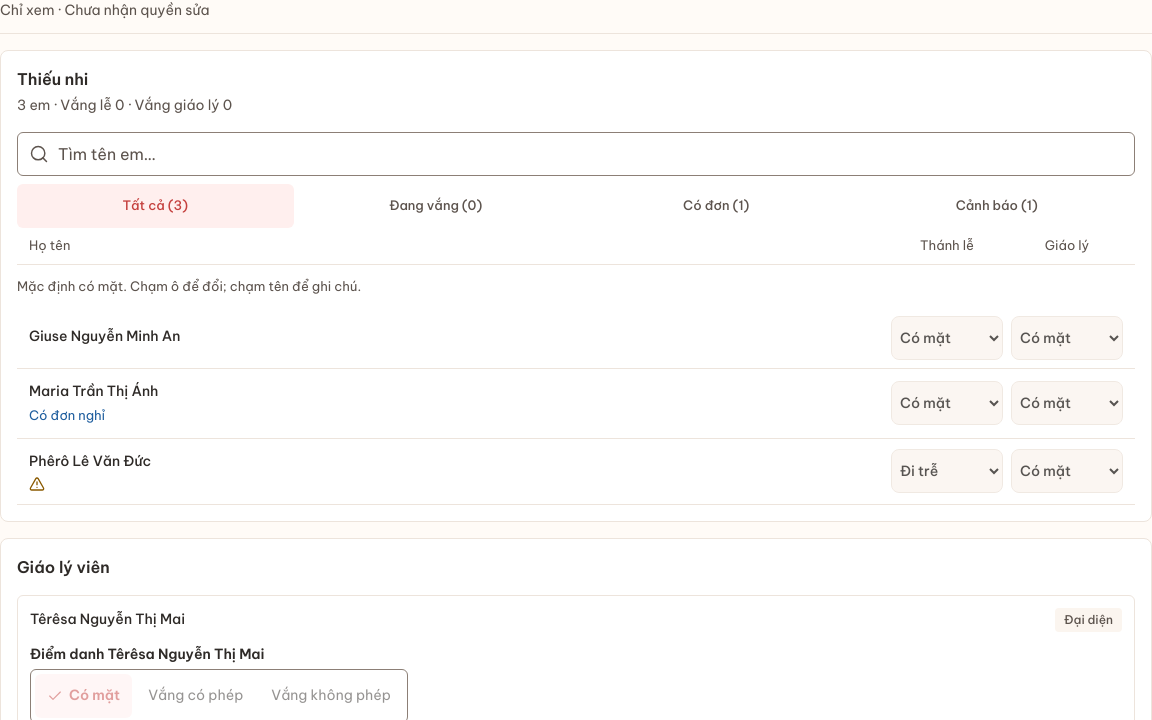
Scenario: Mobile roster: direct controls and detail sheet › read-only disables both selects and notes
Expected: the dropdown named "Thánh lễ của Giuse Nguyễn Minh An" is disabled, [891,316,1003,360]
Expected: the dropdown named "Giáo lý của Giuse Nguyễn Minh An" is disabled, [1011,316,1123,360]
Click the button "Giuse Nguyễn Minh An" at (105, 336), box [29,316,883,360]
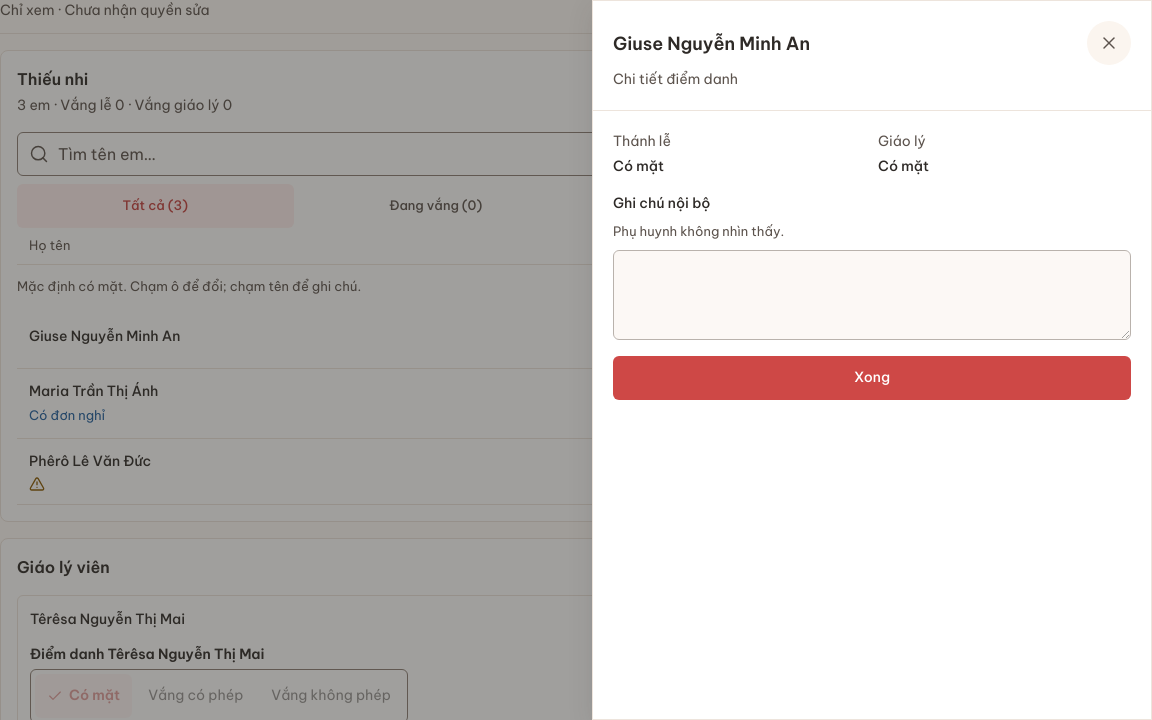
Now the text box named "Ghi chú nội bộ của Giuse" is disabled, box [613,250,1131,340]
